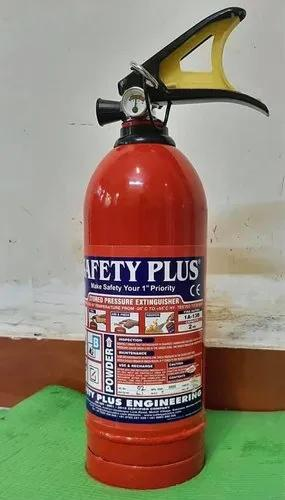floor-kept: (71, 0, 273, 496)
